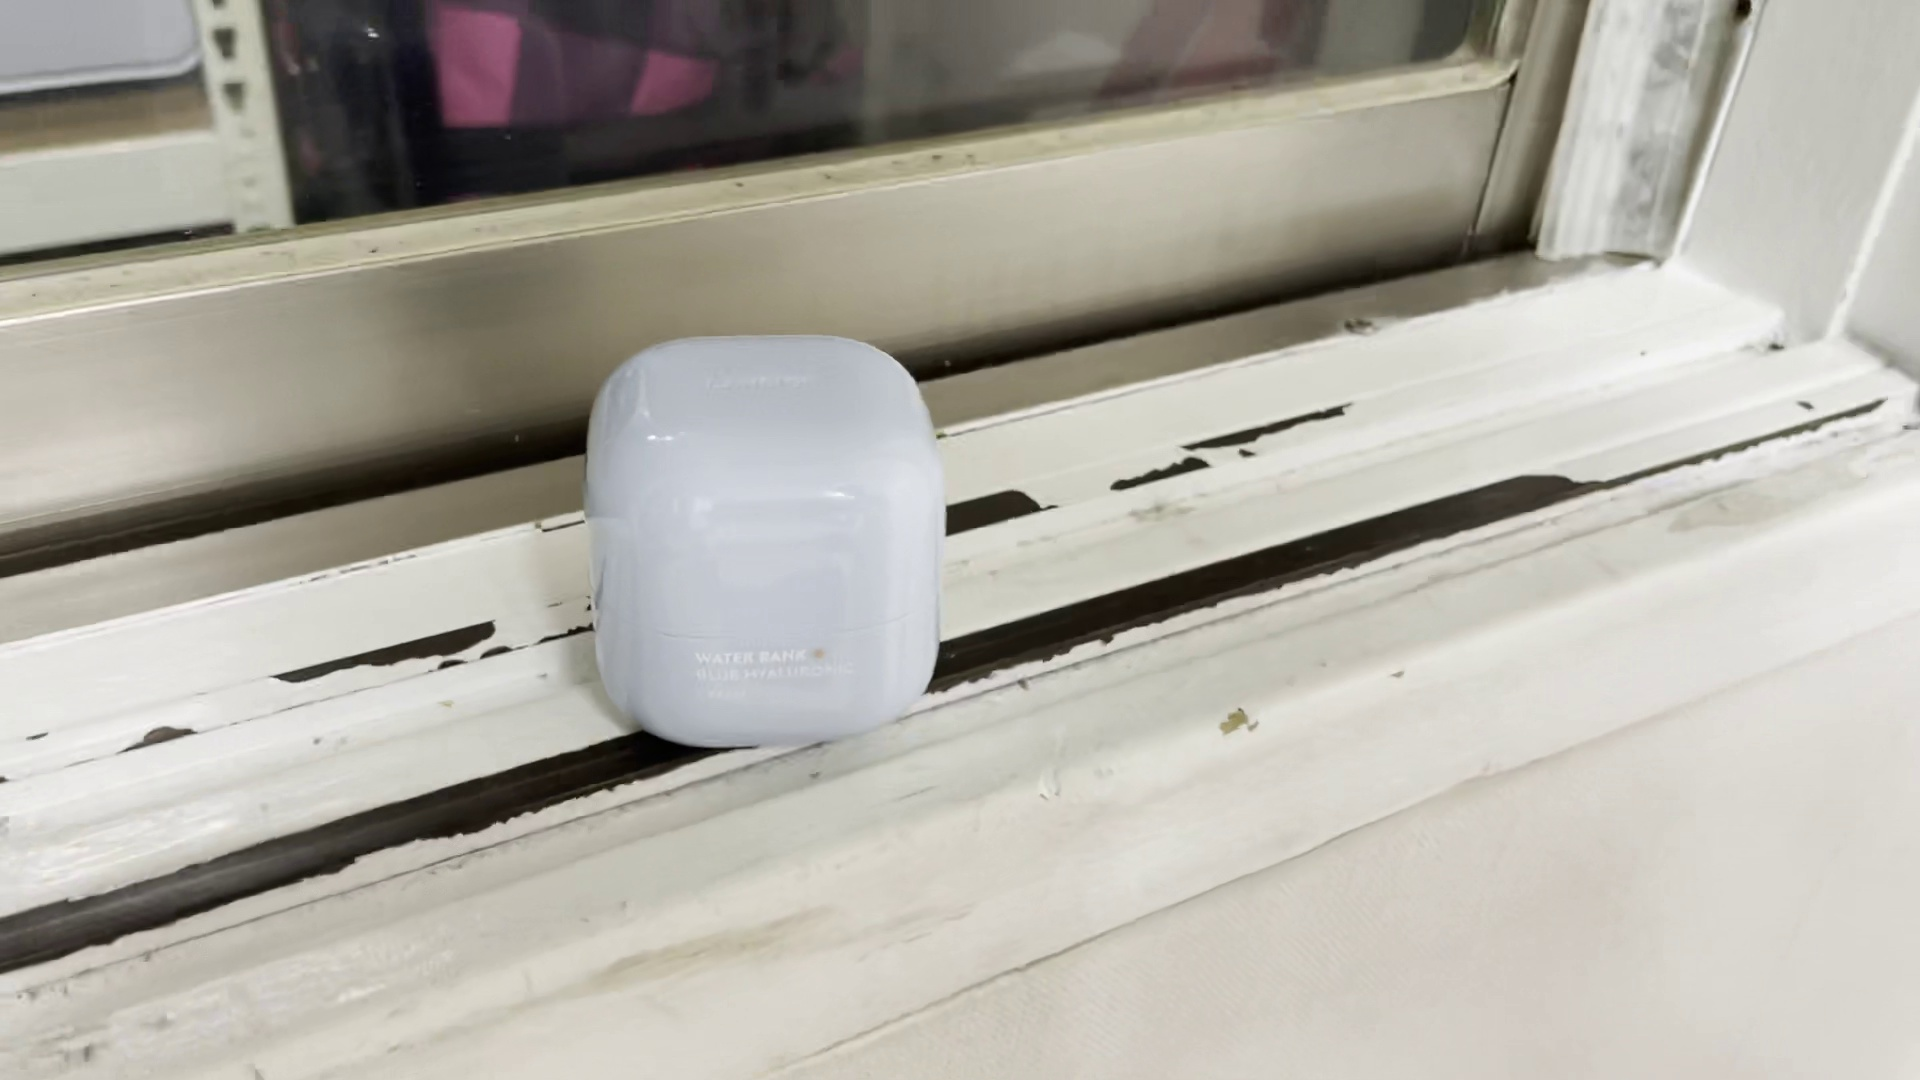cream: (585, 328, 944, 745)
